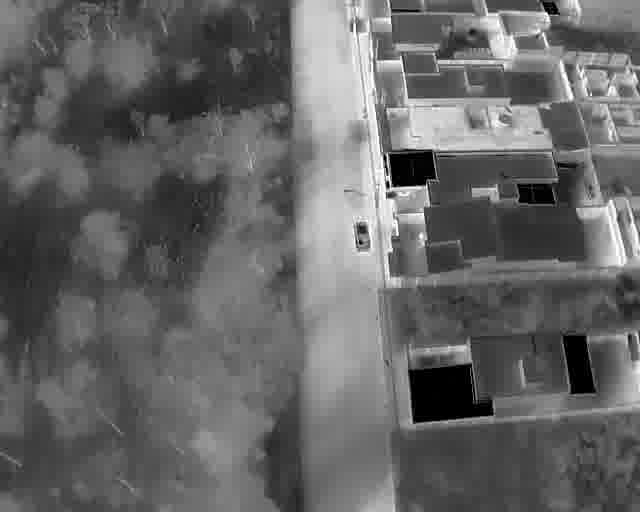car: (353, 217, 371, 252)
